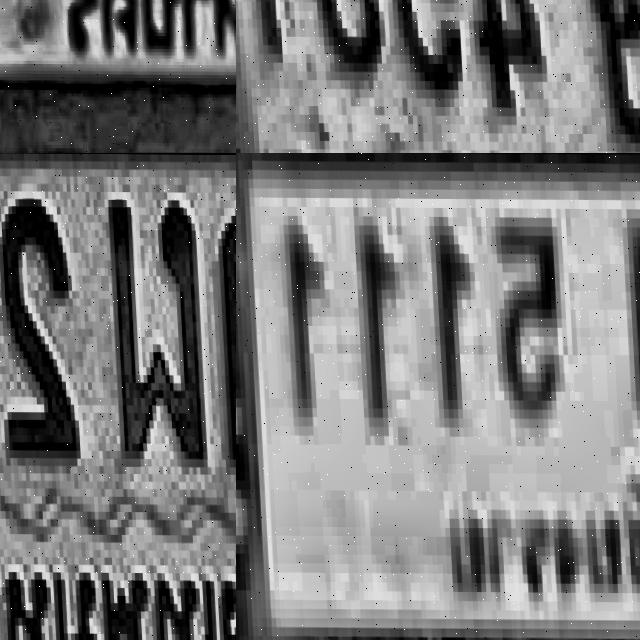license-plate: (236, 153, 640, 640), (0, 153, 236, 640), (236, 0, 640, 153), (0, 0, 236, 153)
